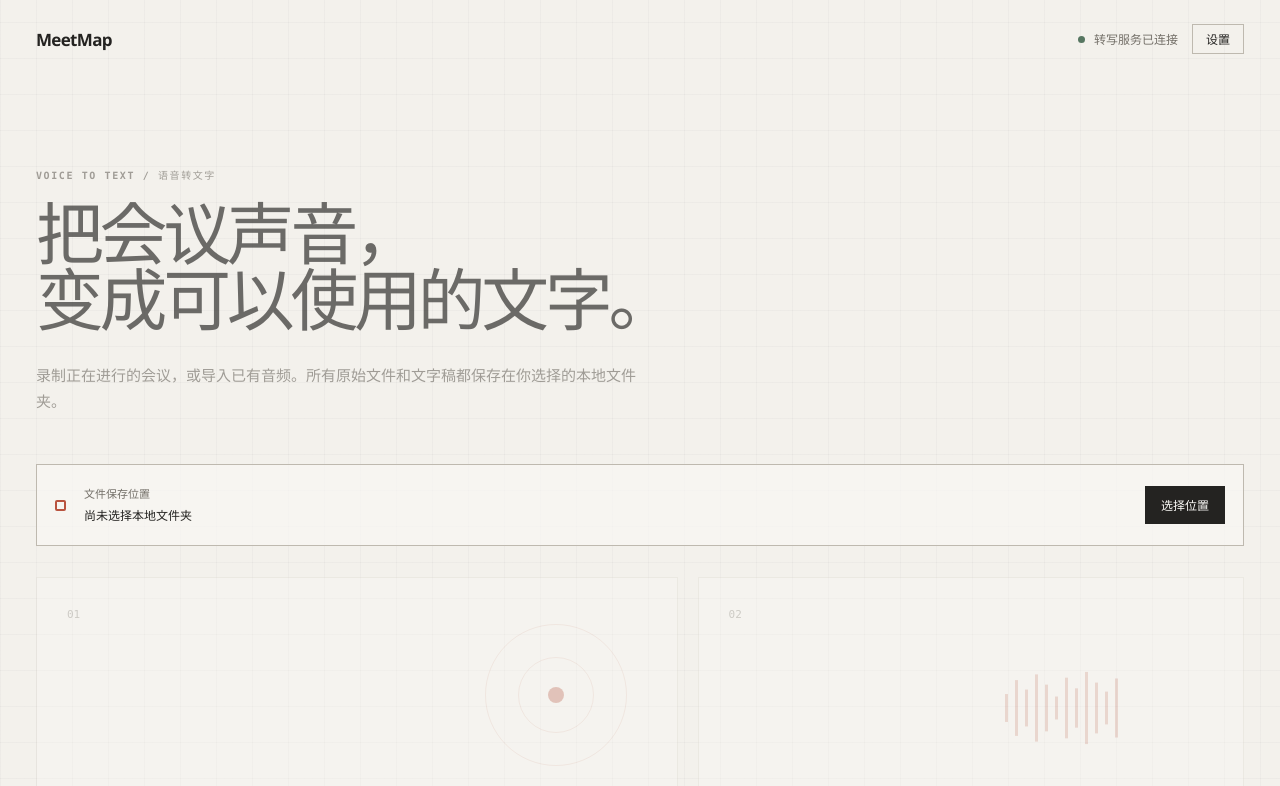
Scenario: requires a workspace and lets the user choose the save location
This screenshot has width=1280, height=786.
Click the button "选择位置" at (1185, 506), box [1145, 486, 1225, 524]
(page scrolled)
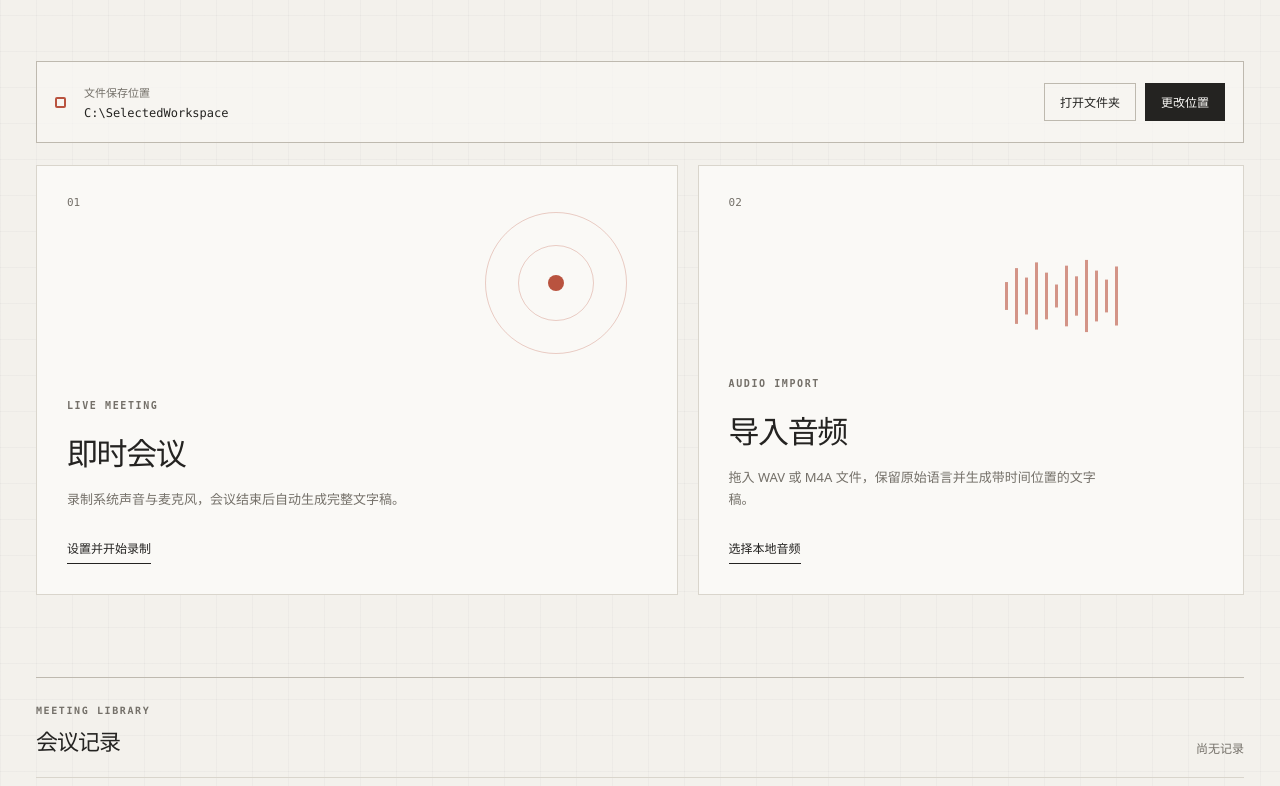
Expected: the text "C:\\SelectedWorkspace" is shown, [84, 106, 228, 120]
Expected: the button "01 LIVE MEETING 即时会议 录制系统声音与麦克风，会议结束后自动生成完整文字稿。 设置并开始录制" is enabled, [36, 166, 678, 596]
